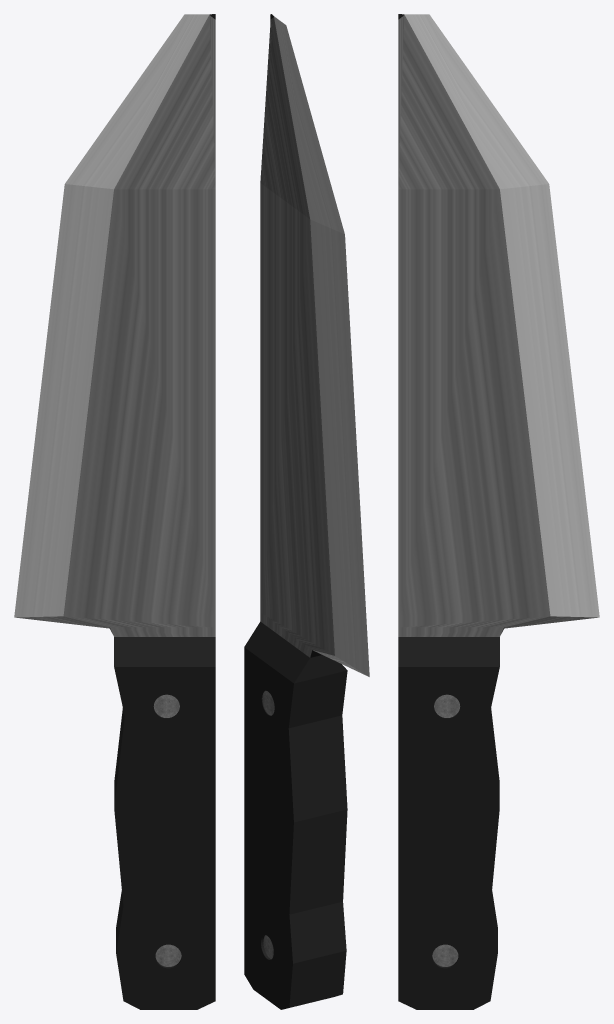
Rendered from knife_kitchen.glb.
3 views of the same model, side by side, from view 1: azimuth 90°, elevation 25°; view 2: azimuth 210°, elevation 25°; view 3: azimuth 270°, elevation 25° (orthographic). The views are drawn at different scales.
Parts seen in each view (by area): view 1: Cube; view 2: Cube; view 3: Cube.
Boxes of the visible parts, x1,y1,x2,y2 form: Cube: (14,14,215,1009); Cube: (244,14,369,1009); Cube: (398,14,599,1009).
Size of the model in its own units: 0.5758 by 9.88 by 1.84.
Materials: 4 (3 with a texture image).
